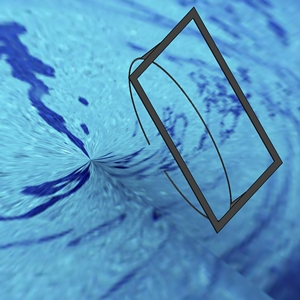circle: (127, 4, 282, 234)
